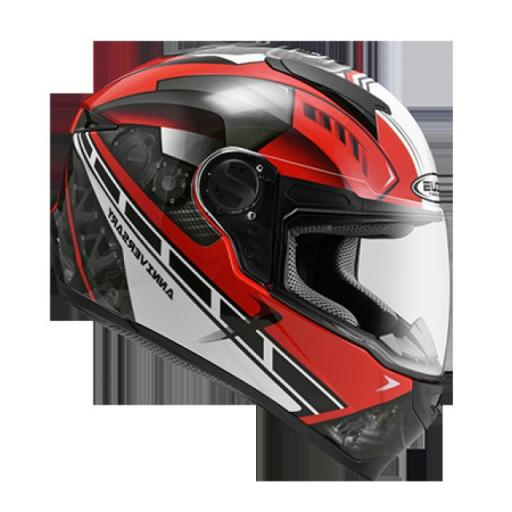Helmet: (68, 20, 439, 472)
